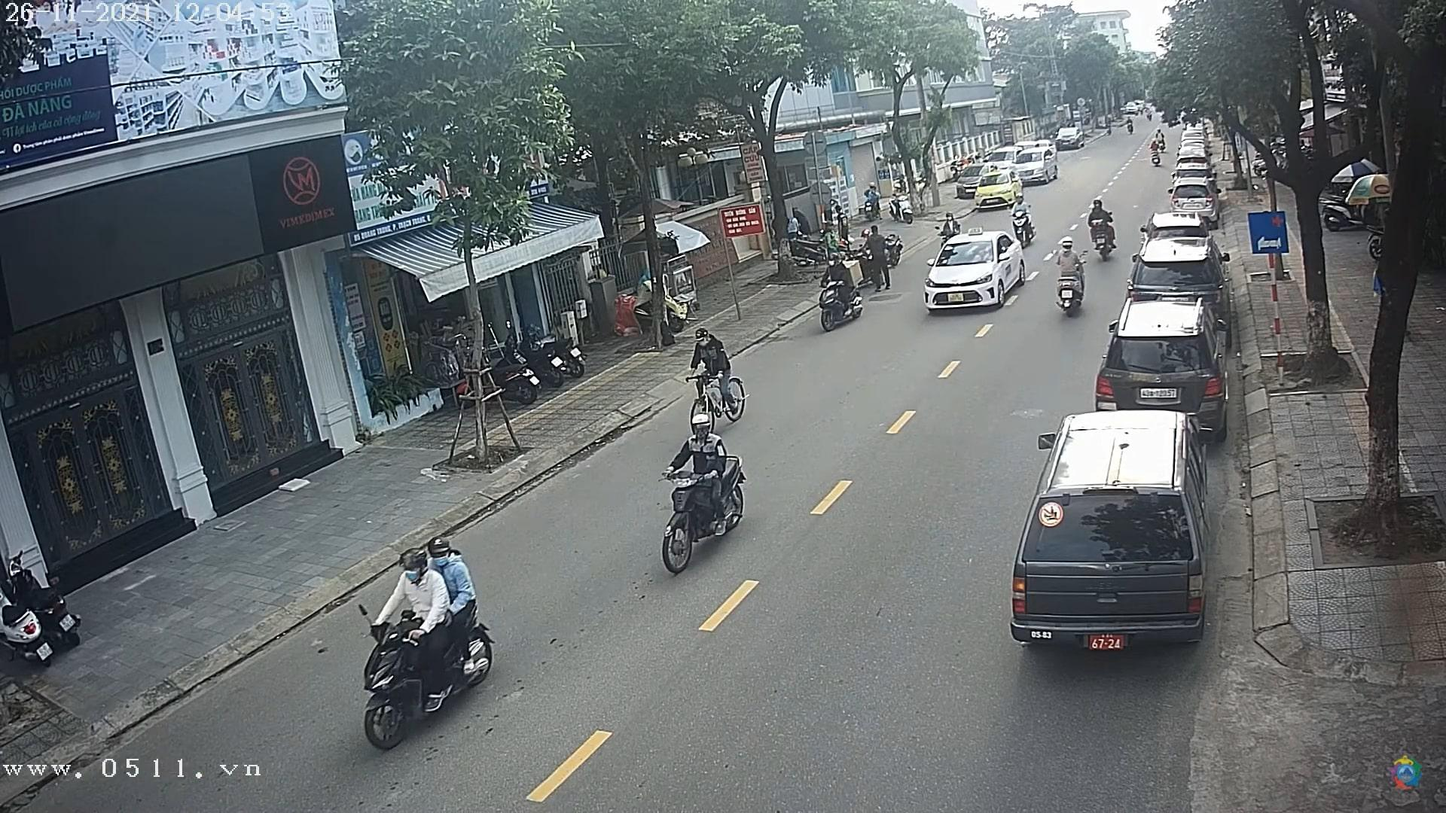car: (1014, 415, 1206, 651), (1097, 295, 1226, 427), (925, 232, 1033, 311), (1133, 235, 1225, 290), (1168, 185, 1213, 214), (1170, 163, 1214, 188), (1171, 158, 1212, 179), (1057, 126, 1087, 149)
motorbike: (355, 612, 498, 750), (654, 454, 748, 577), (817, 280, 868, 332), (1053, 263, 1091, 318)
